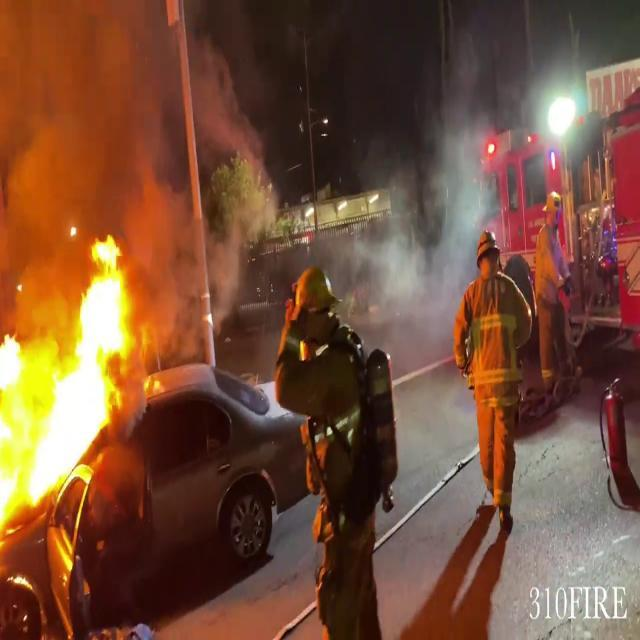Fire: (0, 237, 152, 548)
Smoke: (0, 0, 200, 316), (372, 3, 508, 347)
